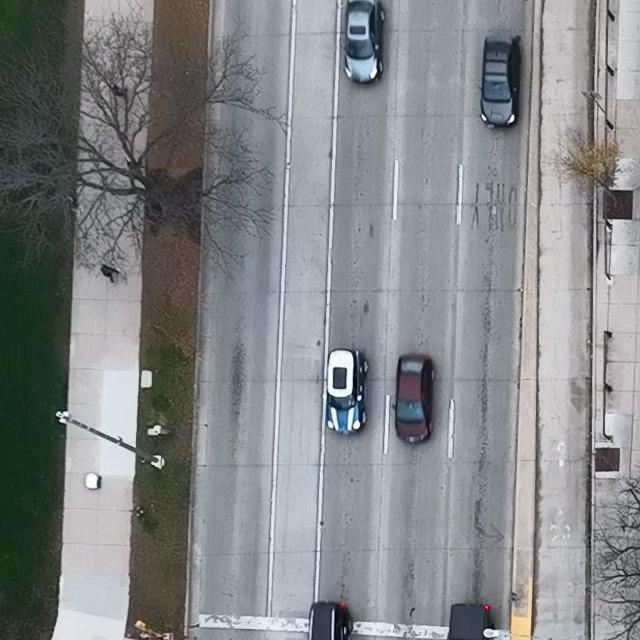car: (391, 354, 437, 446), (479, 33, 522, 130), (324, 349, 369, 436), (343, 0, 385, 85), (306, 602, 353, 640), (448, 604, 496, 640)
